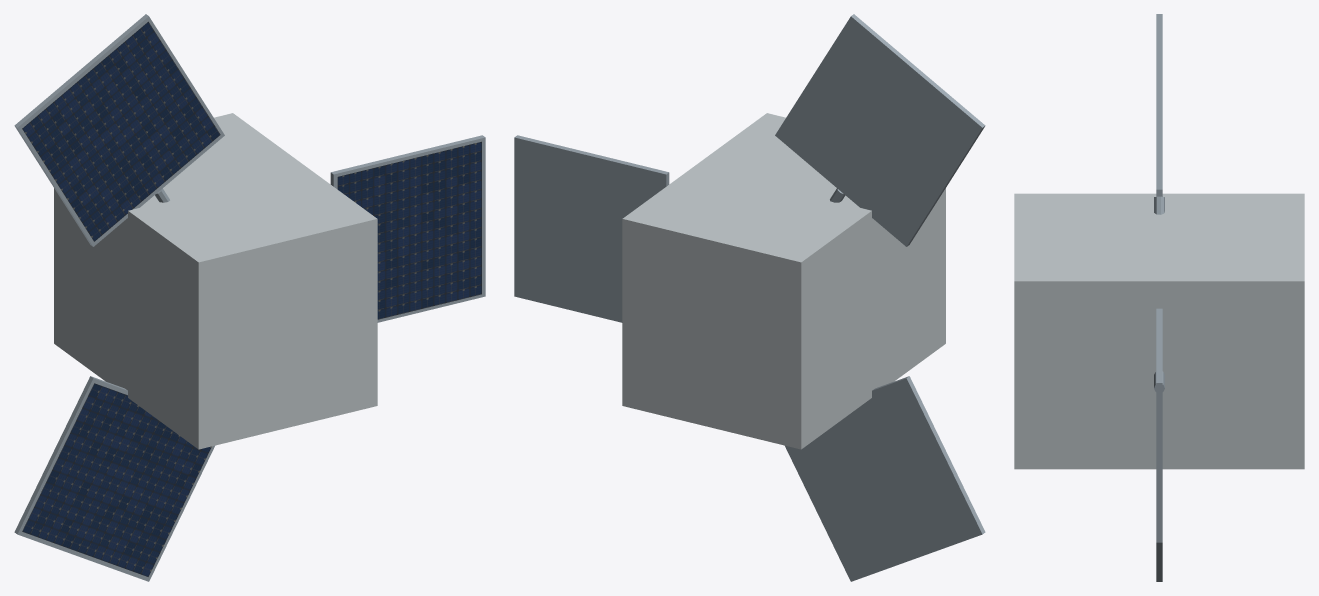
File: ref-sstl-21-66762.glb
3 views of the same model, side by side, from view 1: azimuth 30°, elevation 25°; view 2: azimuth 150°, elevation 25°; view 3: azimuth 270°, elevation 25° (orthographic).
Parts seen in each view (by area): view 1: Spacecraft body, Photovoltaic laminates (×3), Array frame (×3); view 2: Spacecraft body, Array frame (×3); view 3: Spacecraft body, Array frame (×2).
Part boxes in pixels (x1=…): Spacecraft body: x1=54, y1=113, x2=377, y2=449; Photovoltaic laminates (×3): x1=22, y1=21, x2=481, y2=576; Array frame (×3): x1=14, y1=14, x2=485, y2=581; Spacecraft body: x1=622, y1=113, x2=945, y2=449; Array frame (×3): x1=514, y1=14, x2=985, y2=581; Spacecraft body: x1=1014, y1=193, x2=1304, y2=469; Array frame (×2): x1=1156, y1=14, x2=1162, y2=542.
Size of the model in its own units: 1.31 by 1.51 by 0.7.
Materials: 3 (1 with a texture image).
